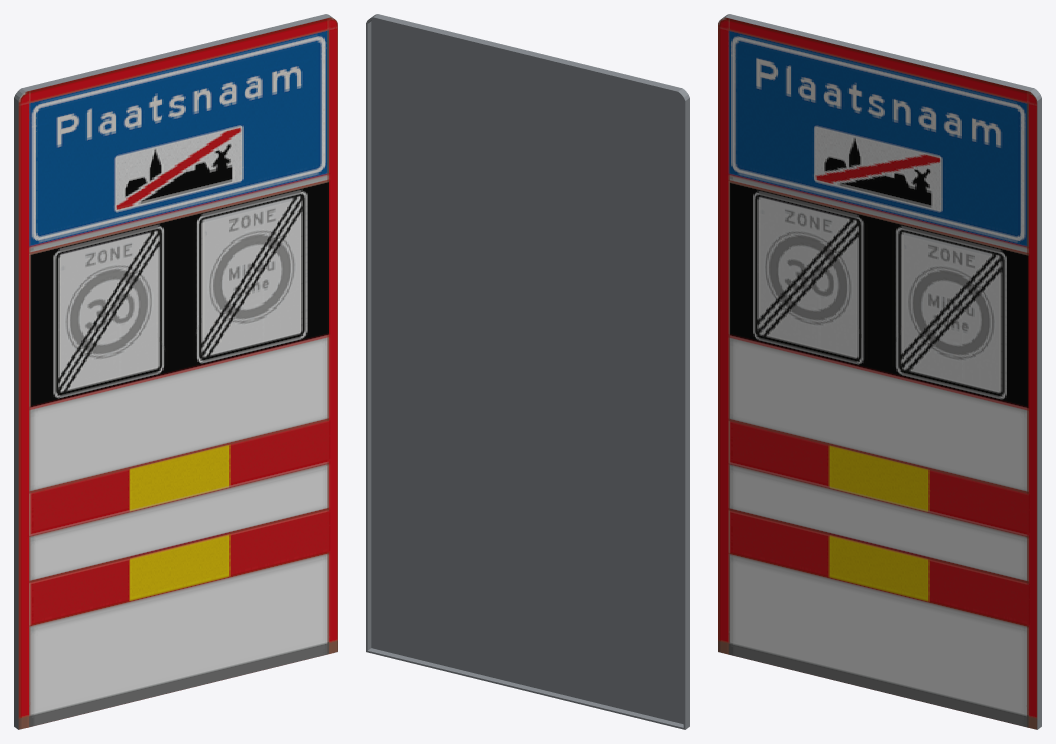
3 renders of one model, left to right at view 1: azimuth 30°, elevation 25°; view 2: azimuth 150°, elevation 25°; view 3: azimuth 330°, elevation 25°, orthographic.
Visible parts, largest first — view 1: cat_5fa9e4edc87a6b6e; view 2: cat_5fa9e4edc87a6b6e; view 3: cat_5fa9e4edc87a6b6e.
Boxes of the visible parts, <box> form: cat_5fa9e4edc87a6b6e: <box>14,14,337,729</box>; cat_5fa9e4edc87a6b6e: <box>366,14,689,729</box>; cat_5fa9e4edc87a6b6e: <box>718,14,1041,729</box>.
Size of the model in its own units: 0.6 by 0.015 by 1.14.
Materials: 2 (1 with a texture image).
